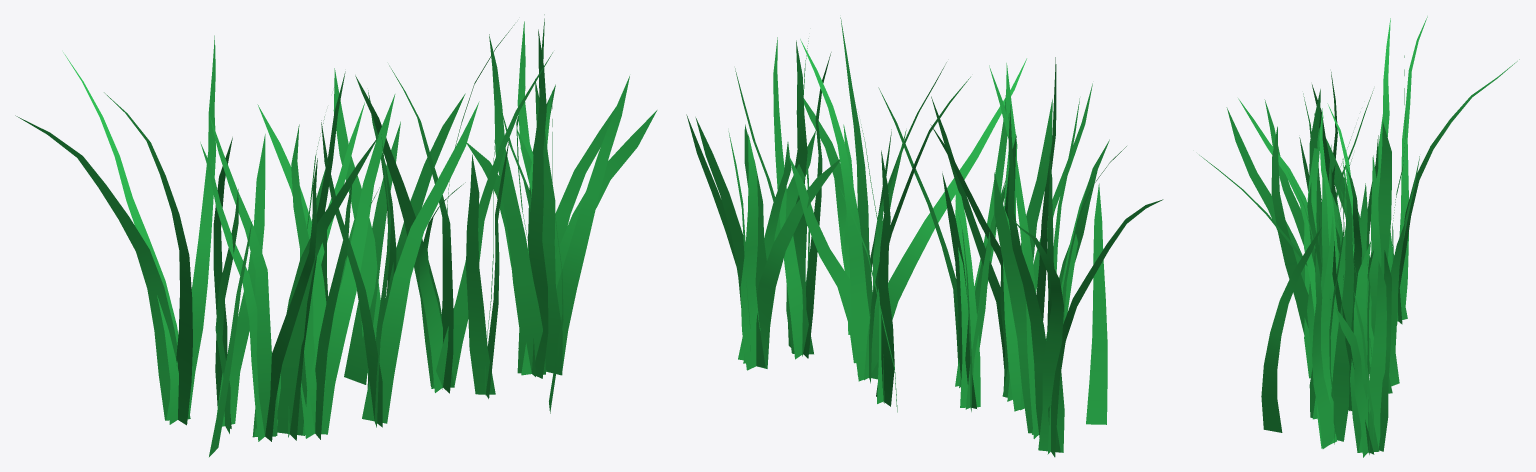
The model's file is coral_seagrass_B_light.fbx.
3 renders of one model, left to right at view 1: azimuth 30°, elevation 25°; view 2: azimuth 150°, elevation 25°; view 3: azimuth 270°, elevation 25°, orthographic. The views are drawn at different scales.
Visible parts, largest first — view 1: coral_seagrass_B_light; view 2: coral_seagrass_B_light; view 3: coral_seagrass_B_light.
Boxes of the visible parts, x1,y1,x2,y2 form: coral_seagrass_B_light: [15, 14, 657, 456]; coral_seagrass_B_light: [686, 17, 1163, 457]; coral_seagrass_B_light: [1199, 16, 1519, 457].
Bounding box in the file's own units: 198 × 121 × 124.
